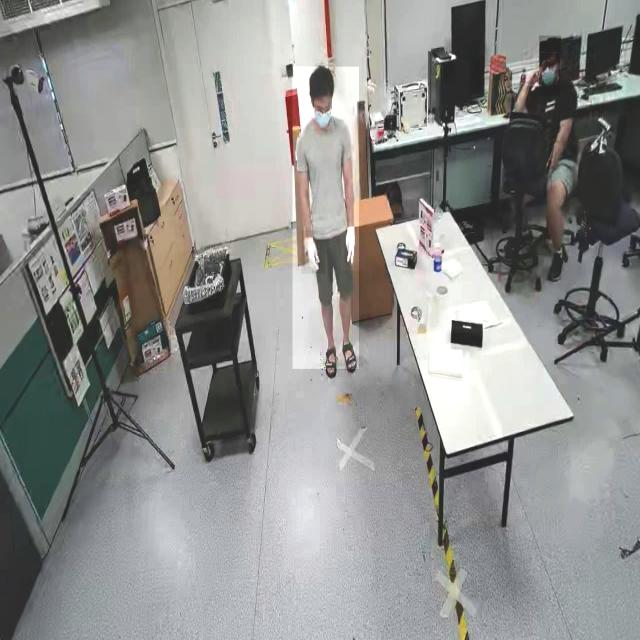face_mask: (539, 53, 560, 97), (312, 97, 334, 129)
hand_glove: (301, 230, 325, 275), (341, 222, 359, 271)
hand_noglove: (526, 67, 542, 87)
head_nohelmet: (309, 64, 334, 90), (539, 36, 561, 52)
person: (292, 66, 359, 370), (507, 40, 581, 261)
